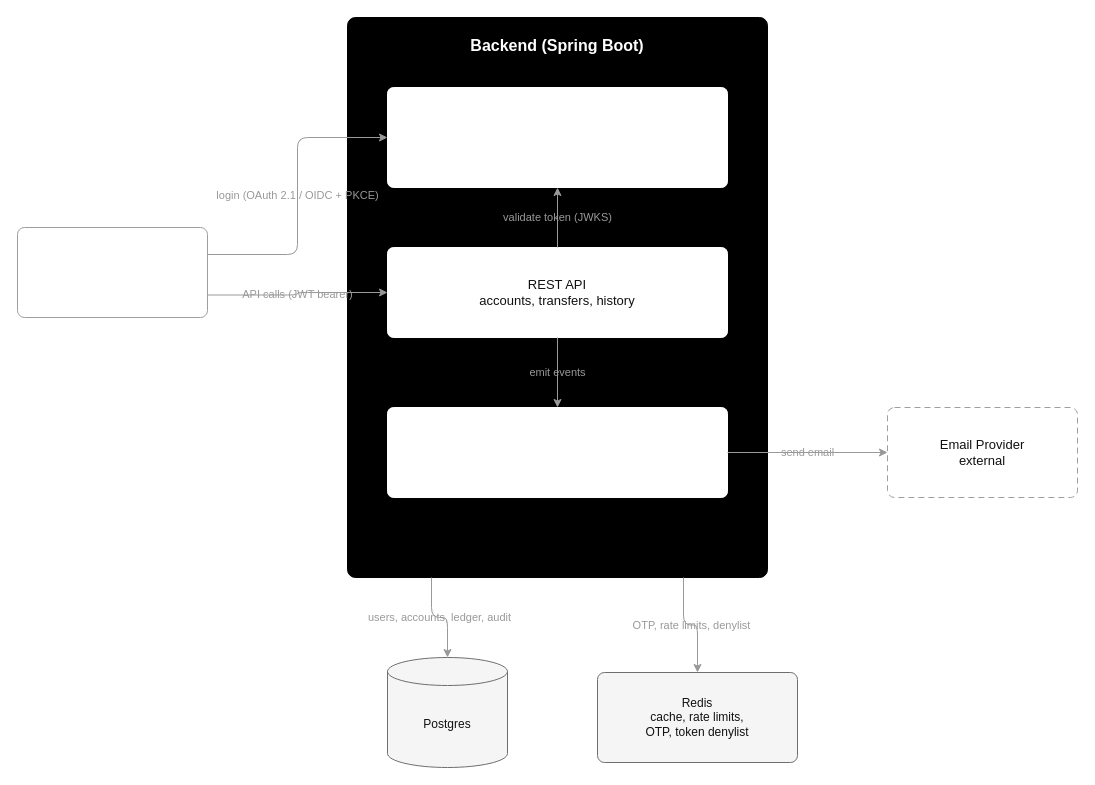
Some shapes in this 1095 by 785 pixel diagram are drawn without their labels. Each missing label, with the centre of its shape:
Authorization Server Spring Authorization Server OAuth 2.1 / OIDC / JWT: (x=557, y=137)
Browser / React SPA (client): (x=112, y=272)
Notifications event-driven, channel-agnostic: (x=557, y=452)
